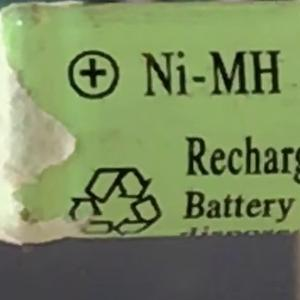NI-MH: (132, 40, 286, 106)
